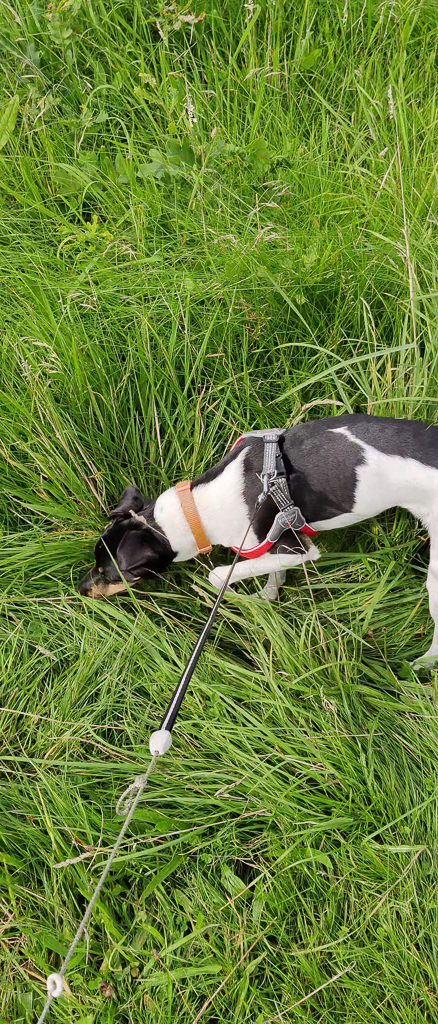Dog: (61, 386, 438, 675)
